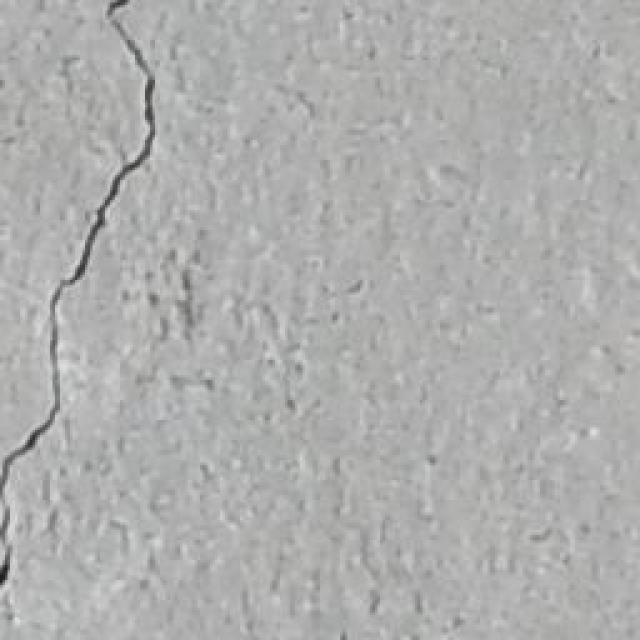concrete-crack: (0, 0, 164, 595)
